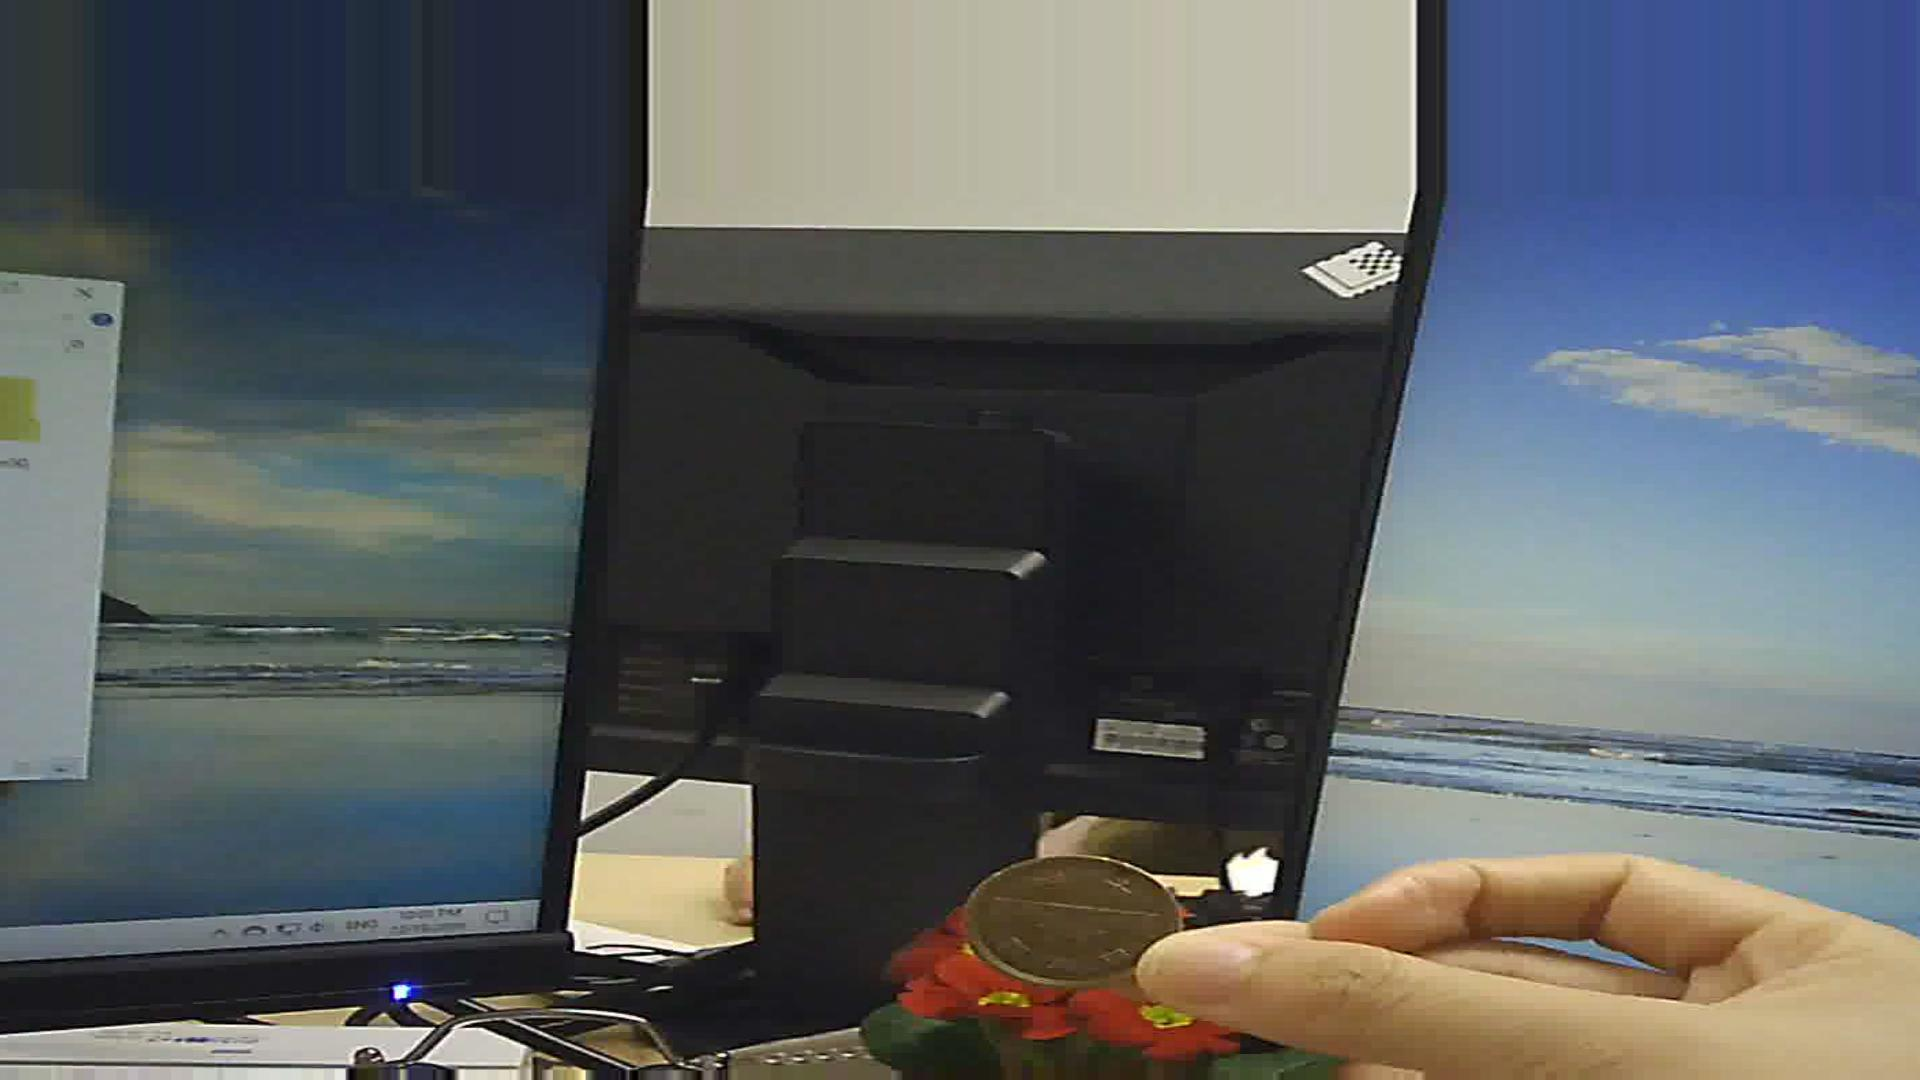10 Yen: (963, 855, 1166, 989)
